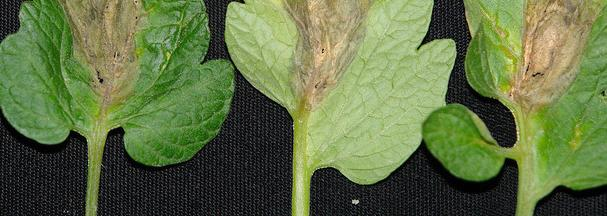Tomato mold leaf: (229, 0, 455, 216), (1, 0, 218, 216), (431, 0, 607, 216)
